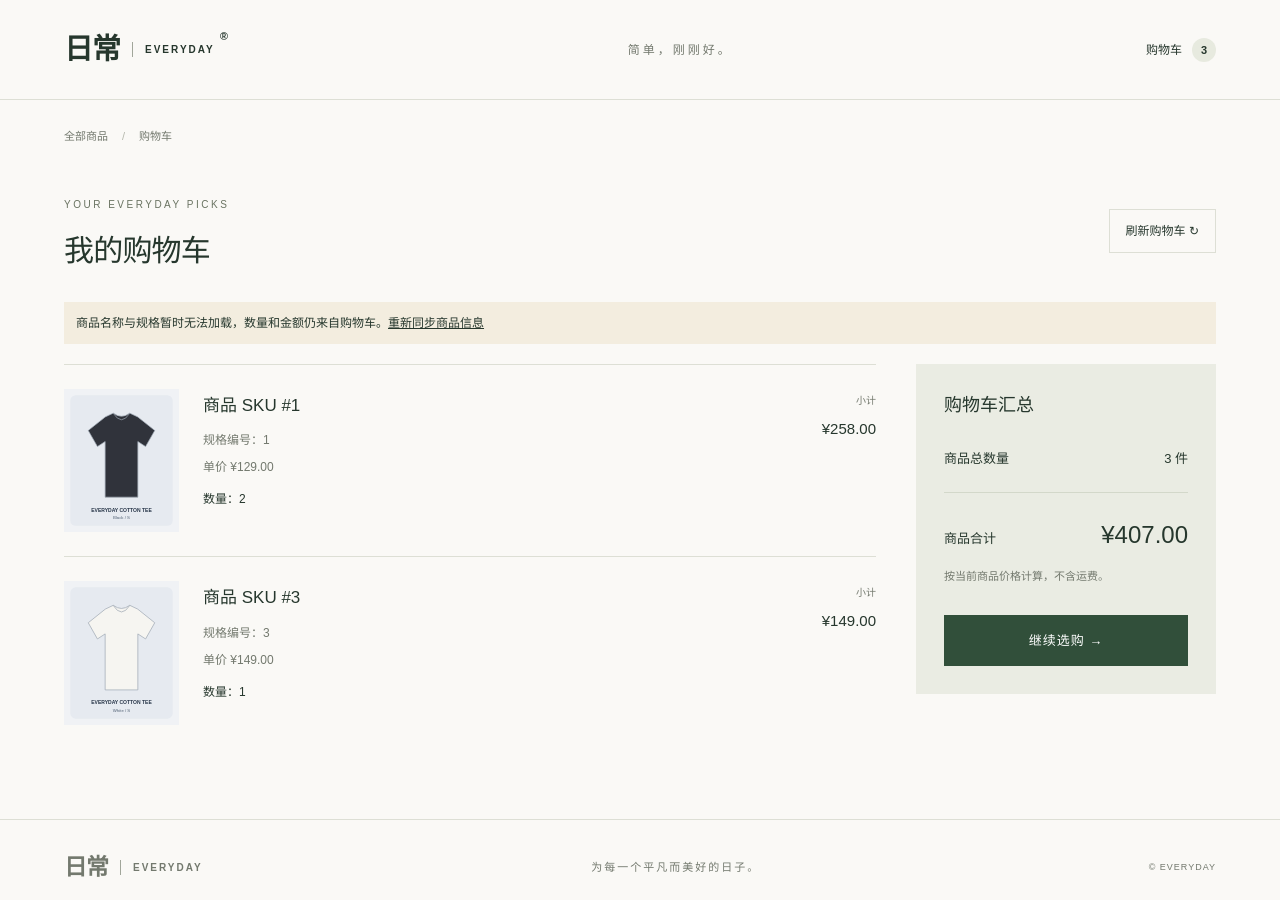
Test: keeps quantities and totals visible if catalog enrichment fails
Check: the message shows "商品名称与规格暂时无法加载", box x1=76 y1=316 x2=388 y2=330
Check: the heading "商品 SKU #1" is shown, box x1=203 y1=396 x2=300 y2=414
Step 1. Click the button "重新同步商品信息" → (436, 322), box x1=388 y1=314 x2=484 y2=332
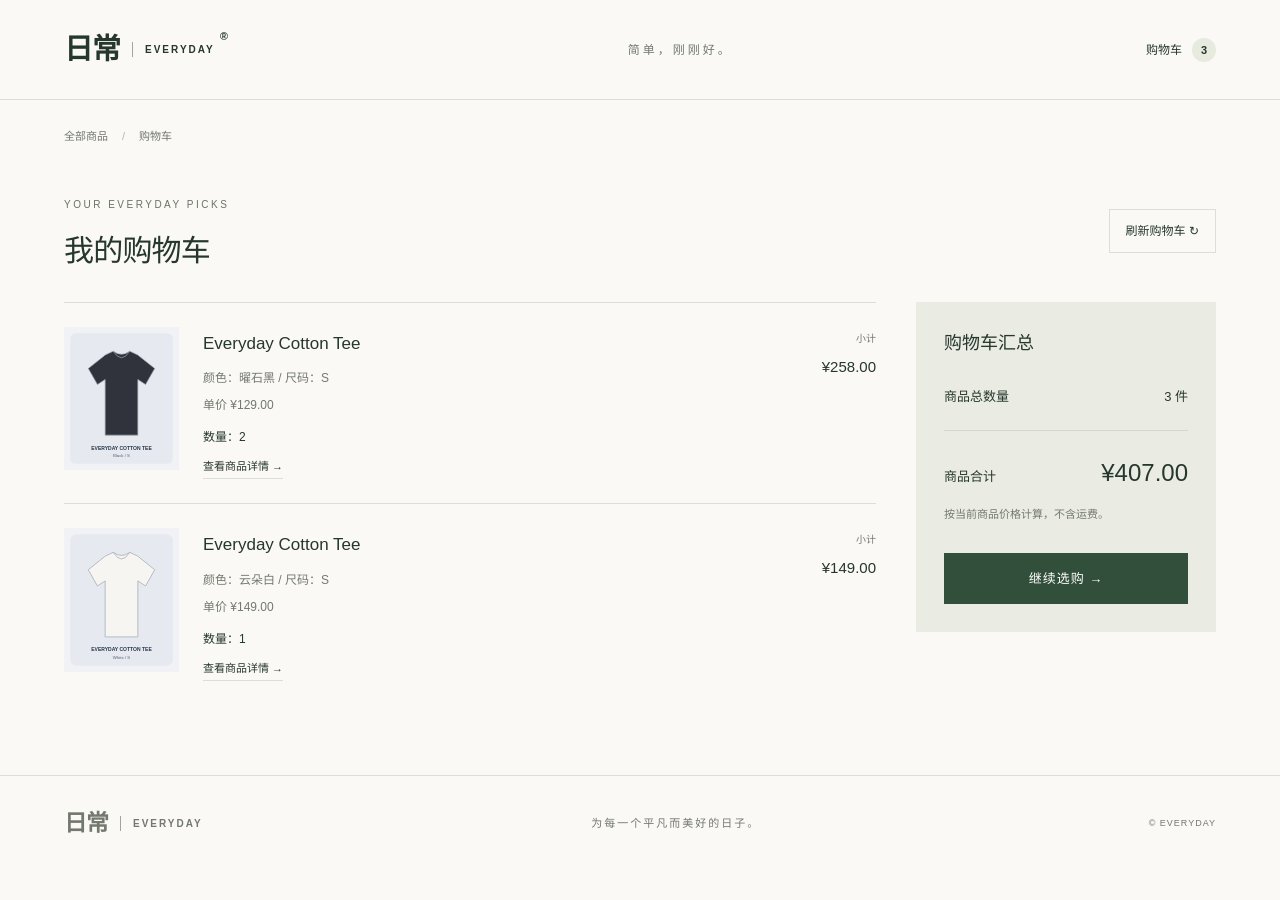
Check: the message "商品名称与规格暂时无法加载，数量和金额仍来自购物车。 重新同步商品信息" is gone
